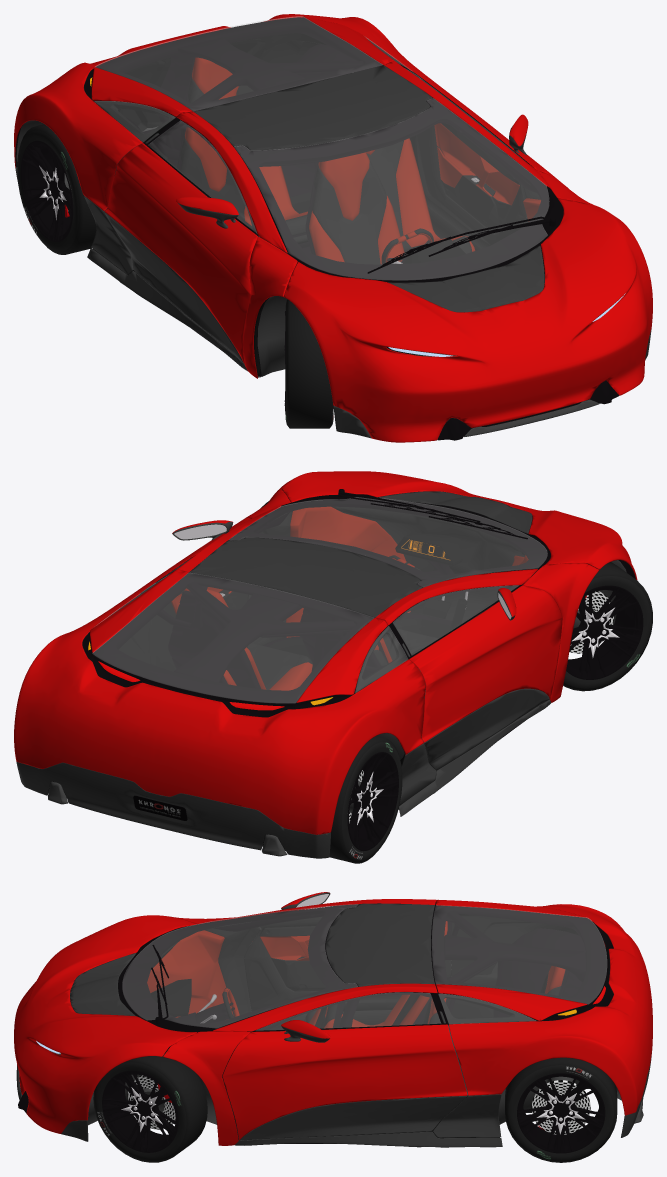
File: sedan.glb
The picture shows the model from 3 angles, top to bottom: view 1: azimuth 30°, elevation 25°; view 2: azimuth 150°, elevation 25°; view 3: azimuth 270°, elevation 25°; orthographic projection. The views are drawn at different scales.
Parts seen in each view (by area): view 1: BodyRearPanelsColor1, BodyWindshield, BodyWindshieldGasket, BodyRoofPanel, InteriorDashSides, InteriorDashMid, InteriorSeatsColor2, object 21, WheelFrontLRim, BodyUnderside, InteriorMid, InteriorSteeringDash; view 2: BodyRearPanelsColor1, BodyWindshield, BodyRoofPanel, BodyWindshieldGasket, InteriorDashMid, WheelFrontLRim, object 21, InteriorDashSides, InteriorSeatsColor2, InteriorFloormats, InteriorSteeringDash, BodyUnderside (+3 smaller); view 3: BodyRearPanelsColor1, BodyWindshield, BodyRoofPanel, BodyWindshieldGasket, object 21, WheelFrontLRim, InteriorDashMid, InteriorDashSides, InteriorMid, WheelFrontLBrakeDisc, BodyUnderside, InteriorSeatsColor2 (+1 smaller).
Part boxes in pixels (x1=…): BodyRearPanelsColor1: x1=14, y1=14, x2=652, y2=442; BodyWindshield: x1=94, y1=16, x2=549, y2=280; BodyWindshieldGasket: x1=16, y1=17, x2=618, y2=440; BodyRoofPanel: x1=15, y1=65, x2=651, y2=438; InteriorDashSides: x1=185, y1=57, x2=540, y2=349; InteriorDashMid: x1=15, y1=33, x2=526, y2=281; InteriorSeatsColor2: x1=180, y1=78, x2=472, y2=264; object 21: x1=17, y1=124, x2=333, y2=428; WheelFrontLRim: x1=20, y1=140, x2=285, y2=414; BodyUnderside: x1=16, y1=78, x2=526, y2=430; InteriorMid: x1=93, y1=173, x2=557, y2=376; InteriorSteeringDash: x1=404, y1=239, x2=465, y2=263; BodyRearPanelsColor1: x1=14, y1=471, x2=637, y2=834; BodyWindshield: x1=92, y1=497, x2=547, y2=703; BodyRoofPanel: x1=16, y1=491, x2=550, y2=858; BodyWindshieldGasket: x1=82, y1=489, x2=635, y2=753; InteriorDashMid: x1=48, y1=502, x2=528, y2=850; WheelFrontLRim: x1=347, y1=585, x2=643, y2=851; object 21: x1=260, y1=501, x2=652, y2=863; InteriorDashSides: x1=171, y1=506, x2=528, y2=690; InteriorSeatsColor2: x1=246, y1=628, x2=437, y2=689; InteriorFloormats: x1=269, y1=598, x2=467, y2=659; InteriorSteeringDash: x1=395, y1=533, x2=462, y2=566; BodyUnderside: x1=48, y1=560, x2=626, y2=856; BodyRearPanelsColor1: x1=14, y1=892, x2=652, y2=1145; BodyWindshield: x1=122, y1=904, x2=606, y2=1030; BodyRoofPanel: x1=16, y1=892, x2=651, y2=1147; BodyWindshieldGasket: x1=18, y1=901, x2=613, y2=1143; object 21: x1=93, y1=1054, x2=617, y2=1162; WheelFrontLRim: x1=102, y1=1070, x2=605, y2=1153; InteriorDashMid: x1=118, y1=908, x2=613, y2=1030; InteriorDashSides: x1=147, y1=921, x2=565, y2=1028; InteriorMid: x1=205, y1=921, x2=499, y2=1143; WheelFrontLBrakeDisc: x1=127, y1=1075, x2=590, y2=1134; BodyUnderside: x1=39, y1=927, x2=643, y2=1125; InteriorSeatsColor2: x1=304, y1=973, x2=560, y2=1028.
Size of the model in its own units: 2.54 by 1.15 by 4.36.
Materials: 23 (6 with a texture image).
